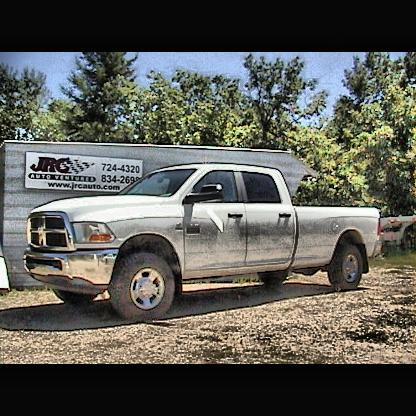Dodge Ram Pickup 3500 Crew Cab 2010: (25, 163, 382, 321)
